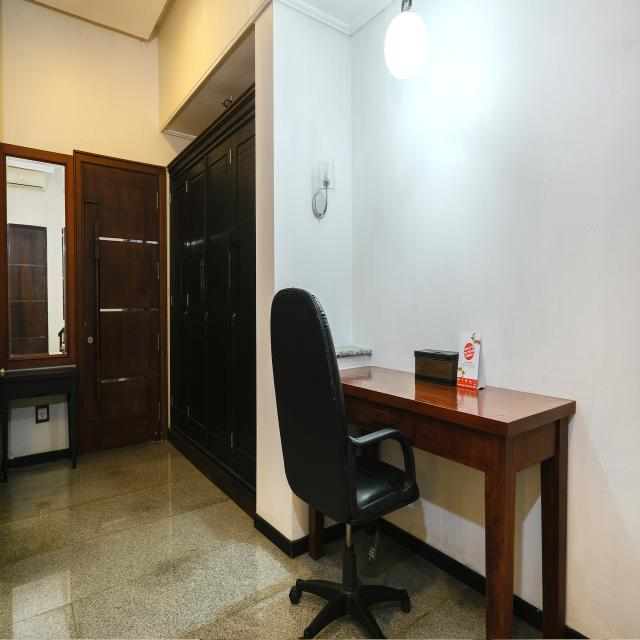Chair: (268, 282, 420, 638)
